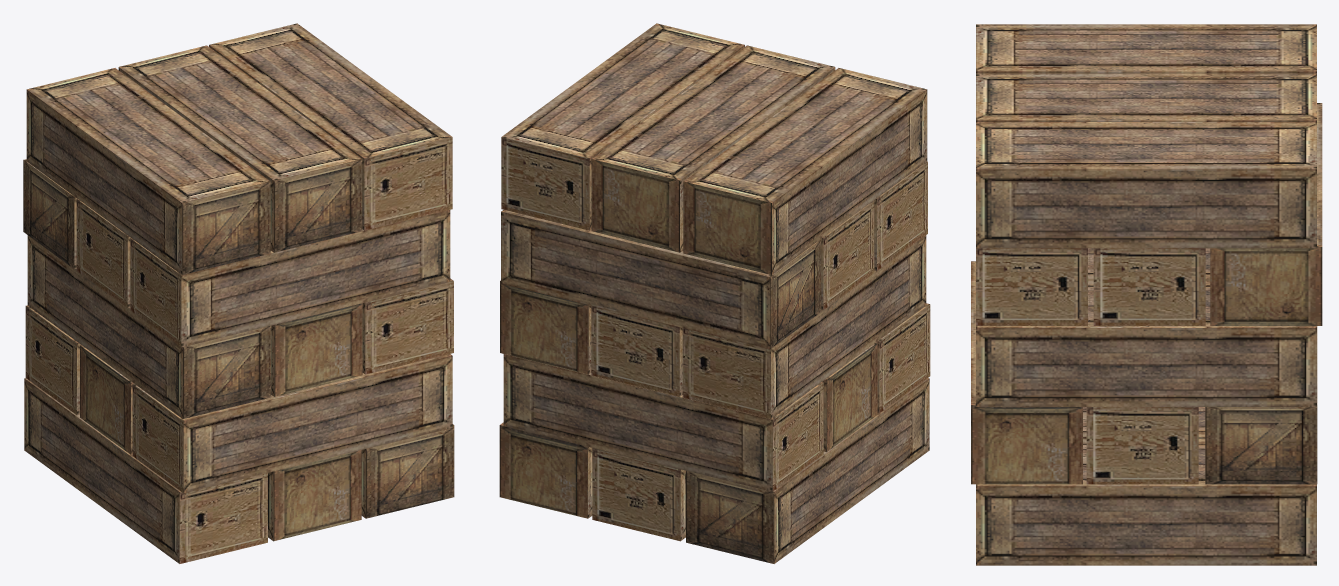
The model's file is WpnCt5R.glb.
3 views of the same model, side by side, from view 1: azimuth 30°, elevation 25°; view 2: azimuth 150°, elevation 25°; view 3: azimuth 270°, elevation 25° (orthographic). The views are drawn at different scales.
Visible parts, largest first — view 1: _WpnCt5R; view 2: _WpnCt5R; view 3: _WpnCt5R.
Part boxes in pixels (<box>): _WpnCt5R: <box>23,23,454,563</box>; _WpnCt5R: <box>499,23,930,563</box>; _WpnCt5R: <box>971,24,1322,565</box>.
Bounding box in the file's own units: 2.07 × 2.56 × 2.04.
2 materials, 2 textured.
